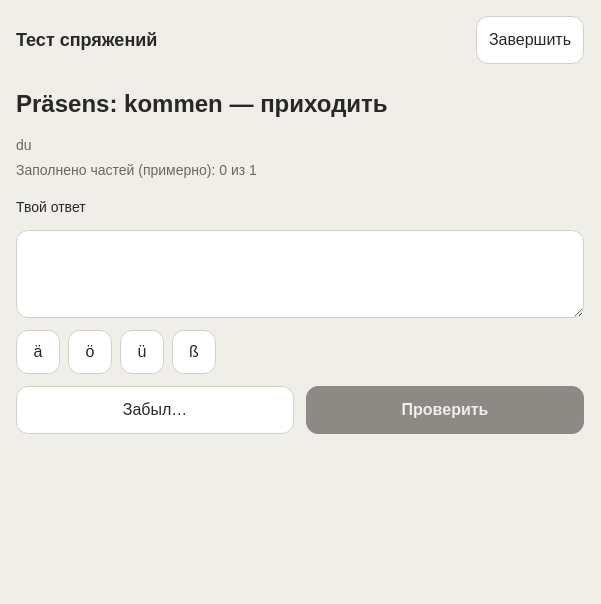
Test: useConjugationHost: flow lifetime (StrictMode) › S4n the own Stop while the answer is unconfirmed names X; the closed summary shows R2-05 and acknowledges before Today
In the text box: (300, 274) [16,230,584,318], type "komm"
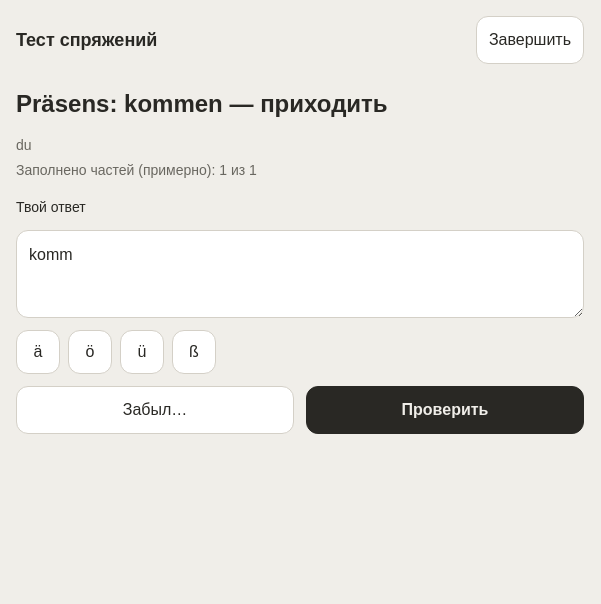
Click the button "Проверить": (445, 410) [306,386,584,434]
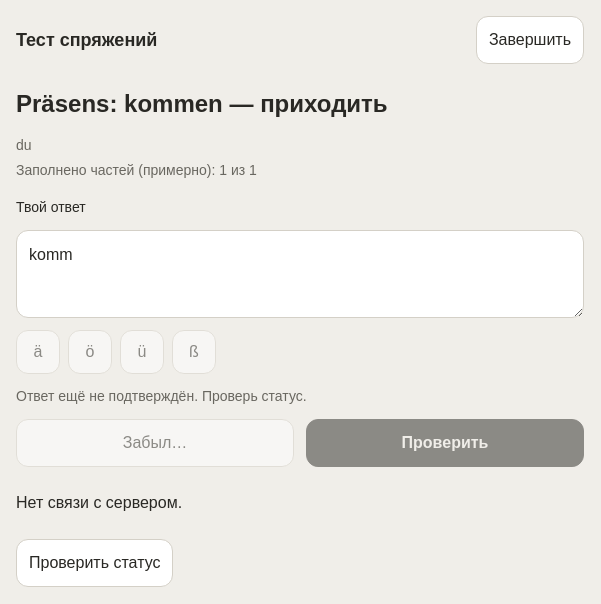
Click the button "Завершить": (530, 40) [476,16,584,64]
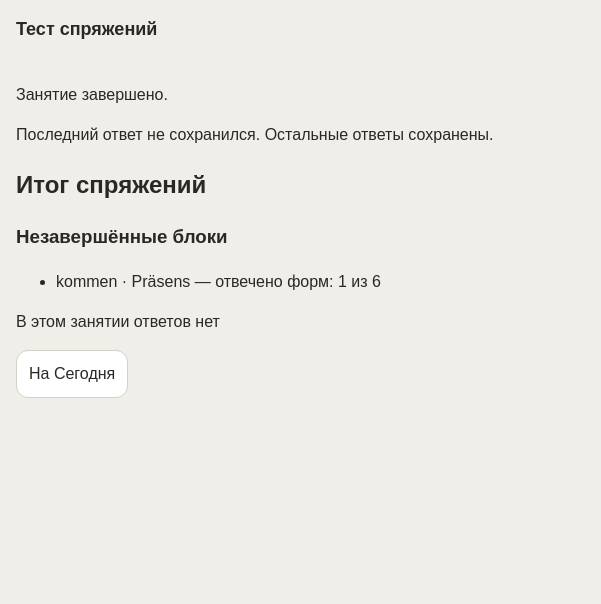
Result: the text "Последний ответ не сохранился. Остальные ответы сохранены." is shown at [16,126,494,143]
